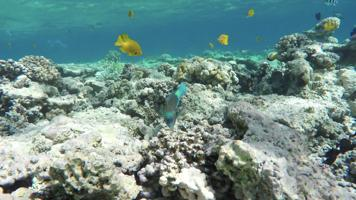Pomacentridae -Damselfishes-: (114, 32, 147, 60)
Scaridae -Parrotfishes-: (158, 71, 190, 129)
